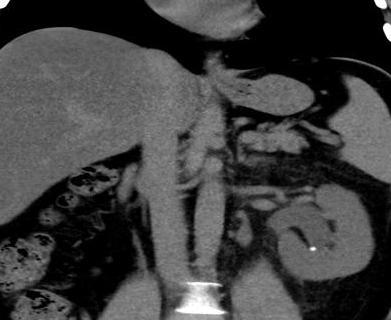Tas_Var: (310, 244, 318, 254)
